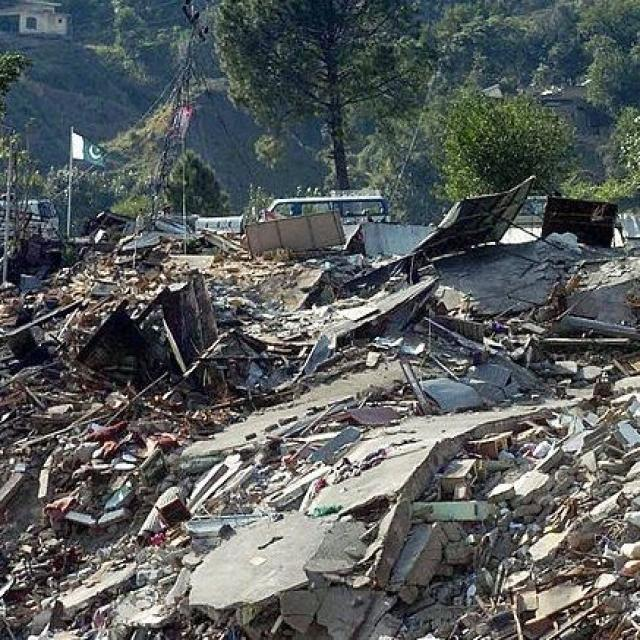collapsed_building: (7, 234, 638, 638)
